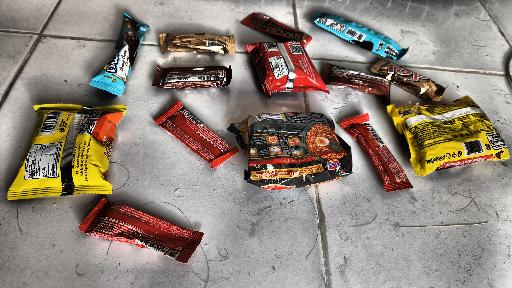chocho: (75, 195, 209, 270), (334, 106, 415, 194), (151, 99, 242, 169), (240, 10, 315, 50)
dilan: (84, 8, 152, 96), (313, 7, 404, 62)
indomie: (387, 101, 510, 176)
mie sedap: (221, 108, 363, 194)
momotaro: (6, 97, 132, 202), (242, 41, 332, 96)
top: (321, 58, 395, 105), (376, 55, 445, 103), (152, 65, 234, 94), (157, 32, 237, 56)
